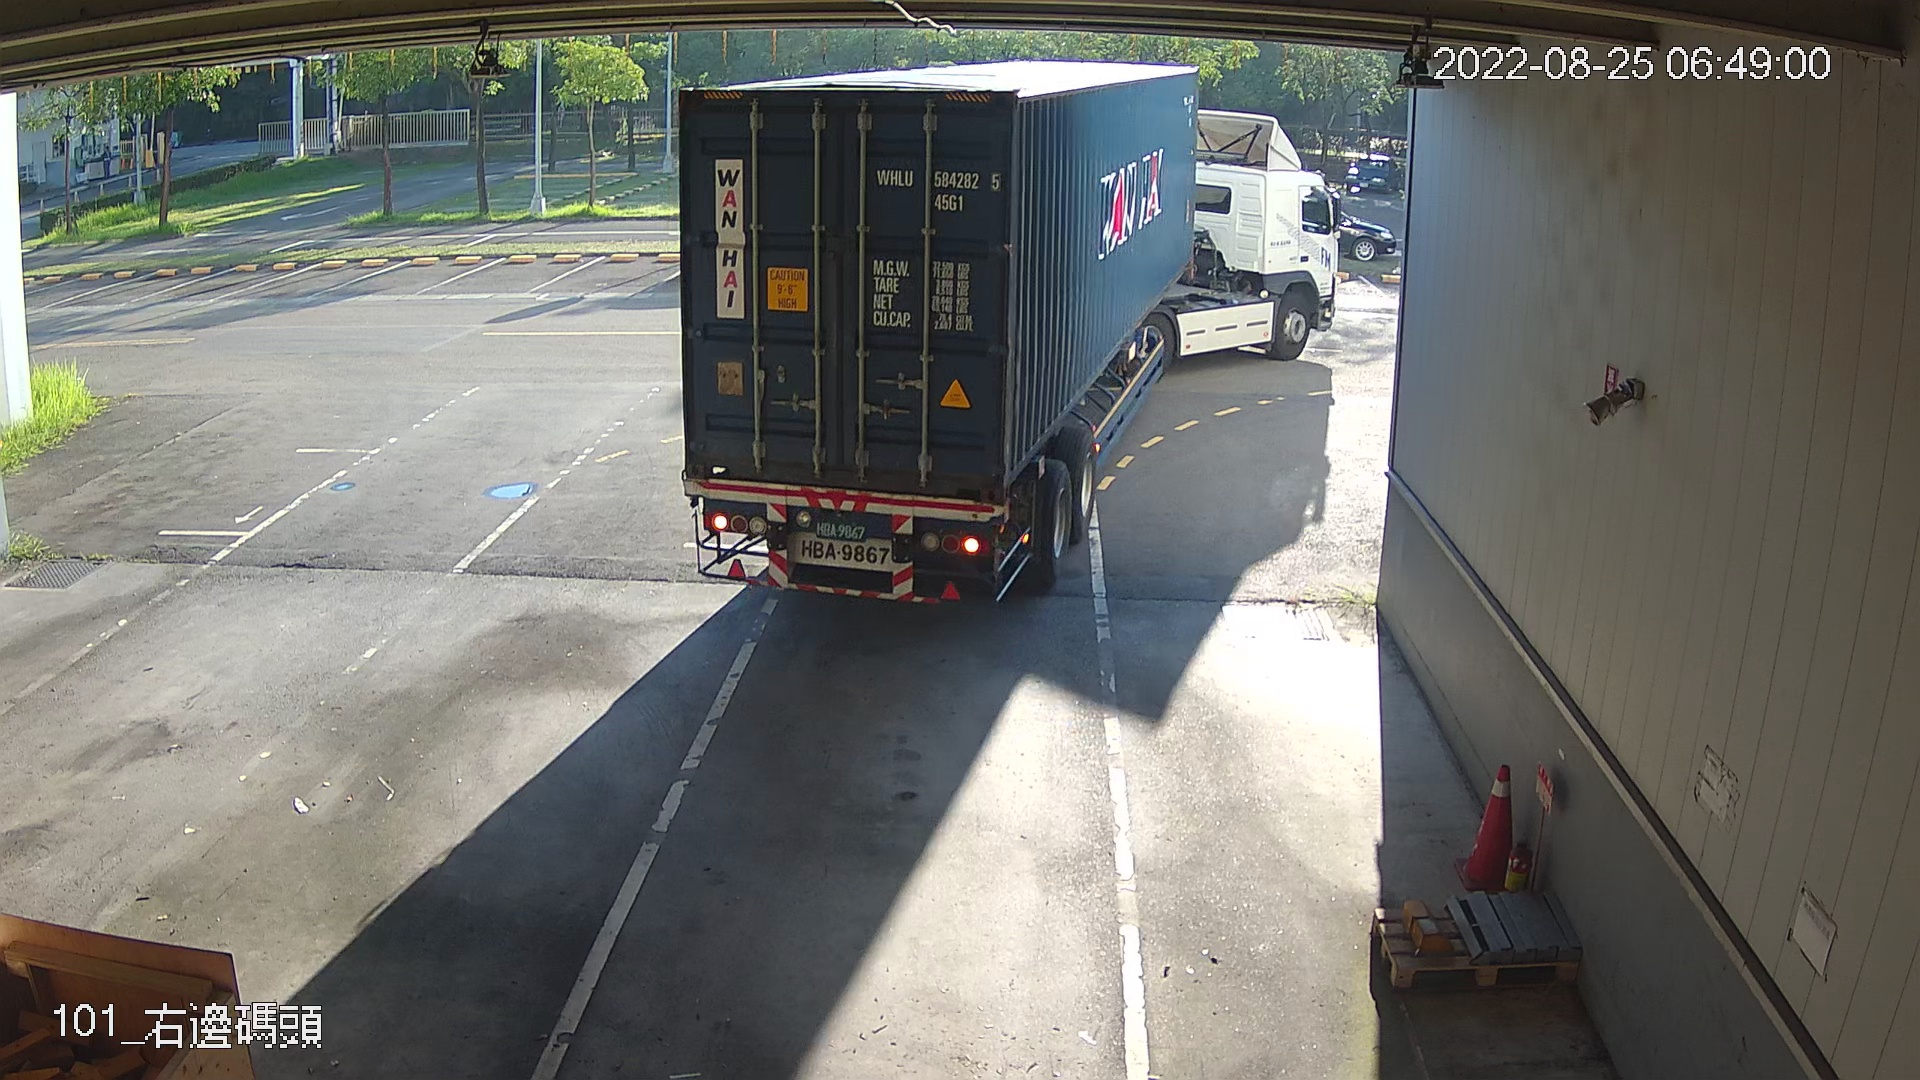container: (869, 161, 1007, 219)
